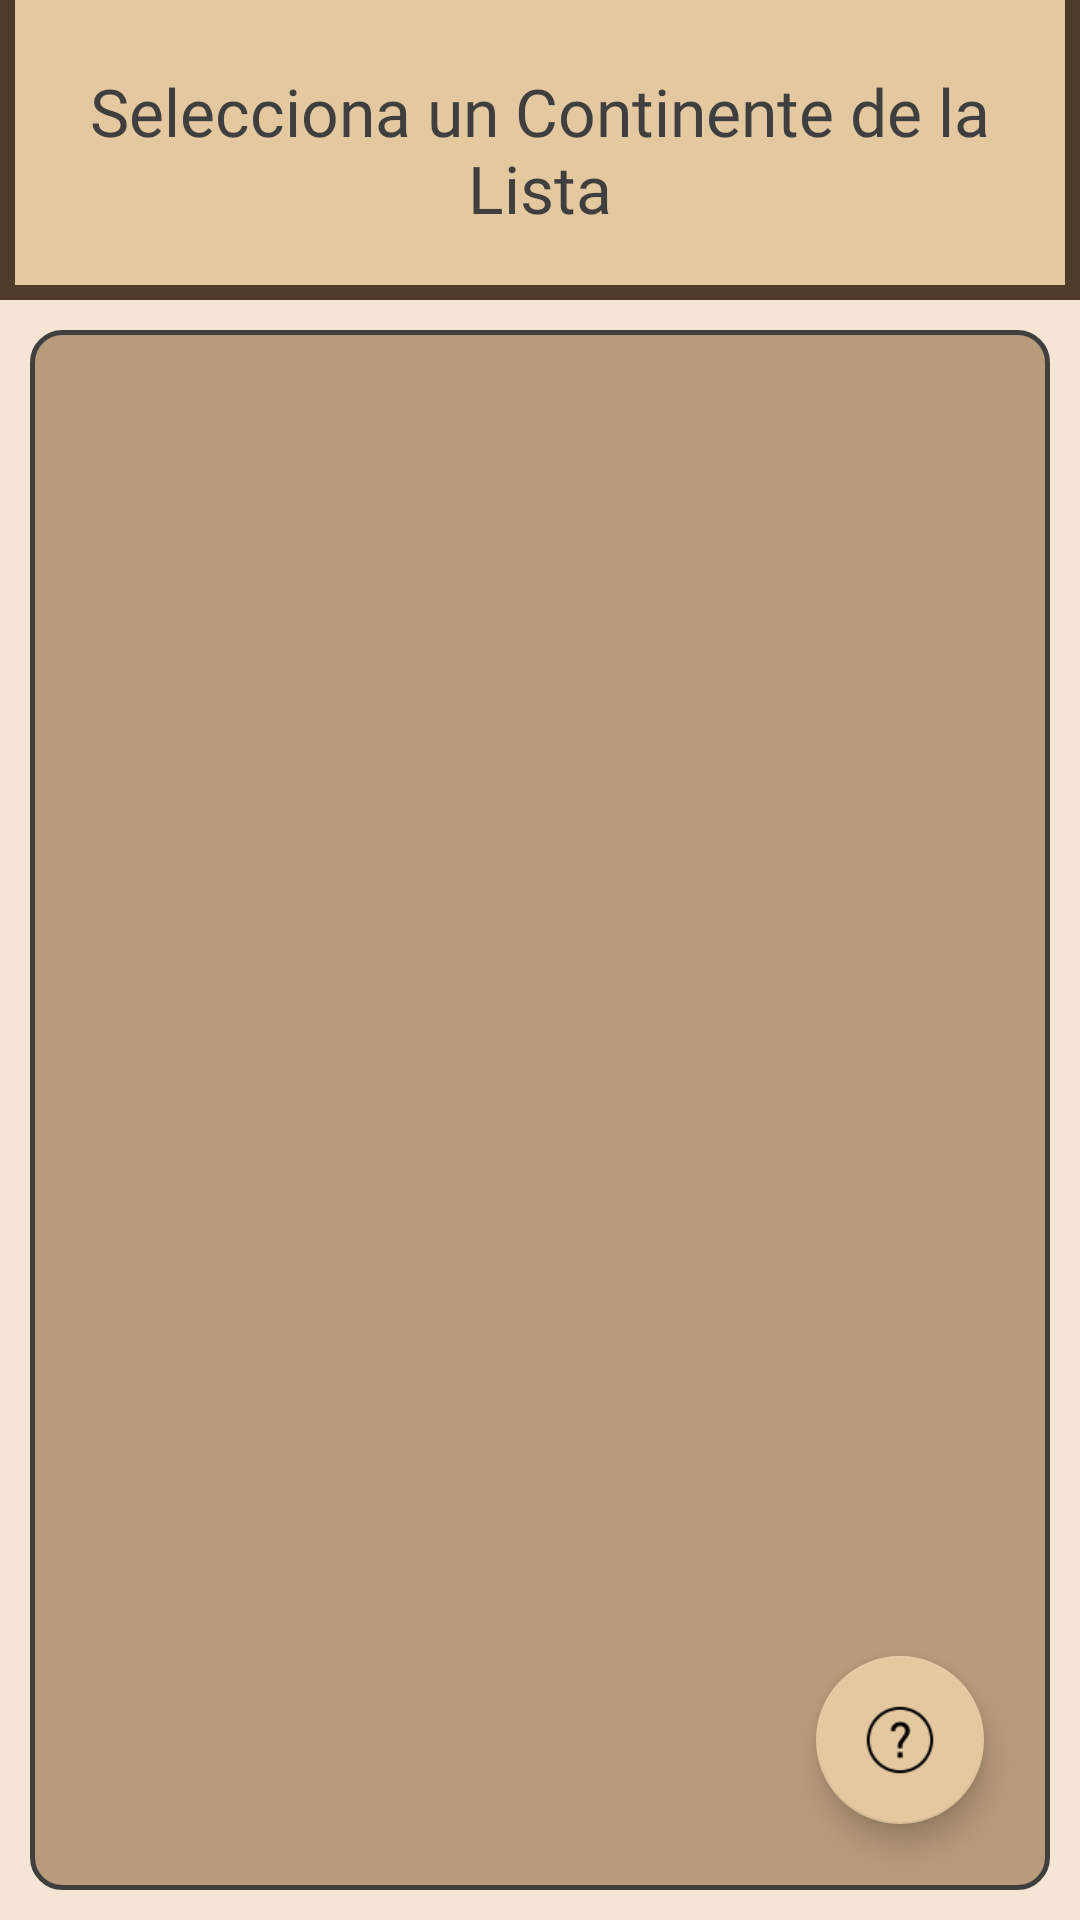

Named icons in this screenshot (1080 x 1920) and their centers, point (x, y):
Reset Information Floating Button: point (900, 1740)
